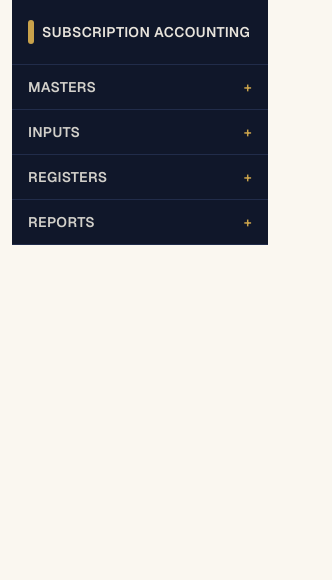
Sidebar › expanding one group does not collapse another already-expanded group
The image size is (332, 580).
Click the button "Masters +" at (140, 87), box [12,65,268,109]
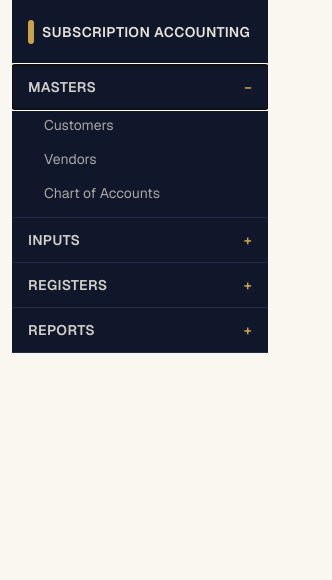
Check: the link "Customers" is shown, box [44,116,114,134]
Click the button "Inputs +" at (140, 240), box [12,218,268,262]
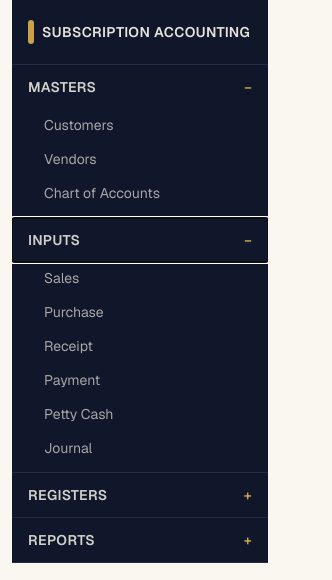
Check: the link "Customers" is shown, box [44,116,114,134]
Check: the link "Sales" is shown, box [44,269,79,287]
